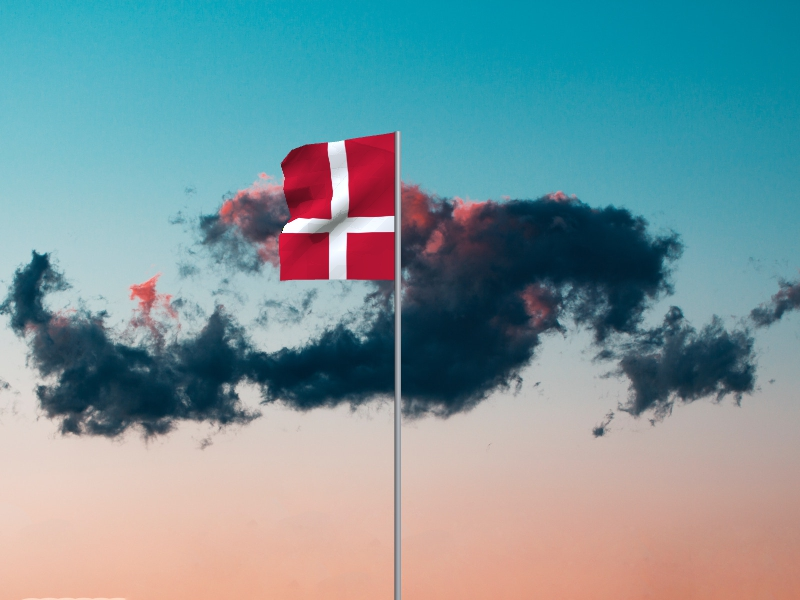dk: (279, 133, 395, 283)
